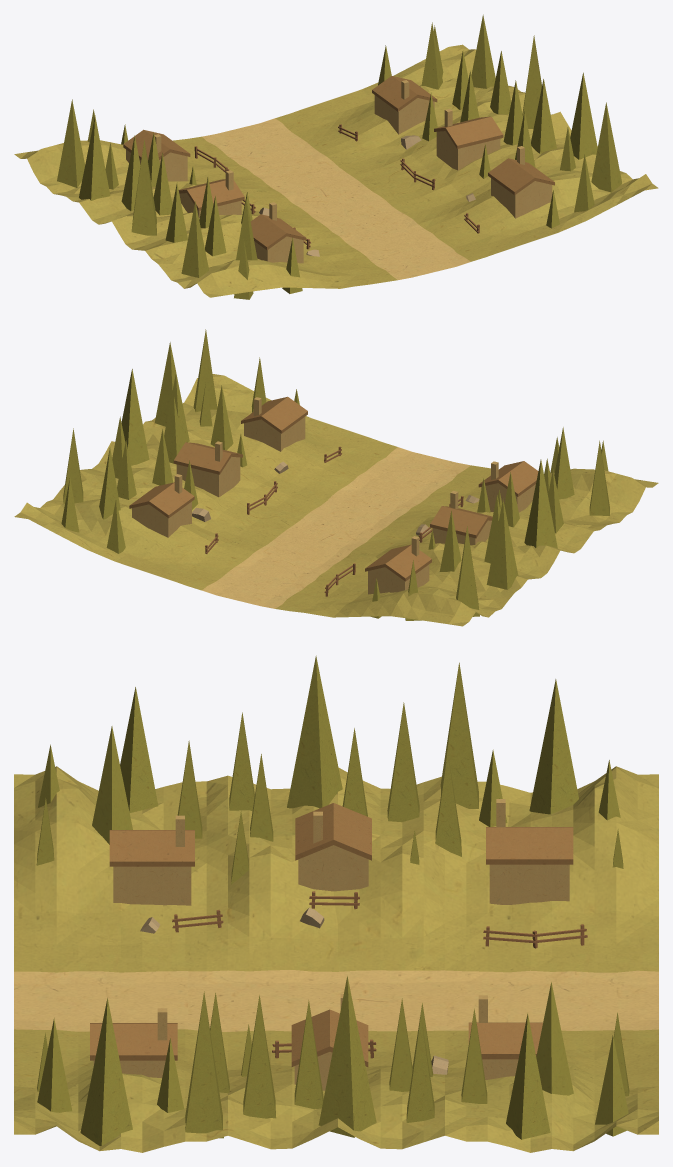
The model's file is road.fbx.
3 renders of one model, top to bottom at view 1: azimuth 30°, elevation 25°; view 2: azimuth 150°, elevation 25°; view 3: azimuth 270°, elevation 25°, orthographic. The views are drawn at different scales.
Parts seen in each view (by area): view 1: Landscape; view 2: Landscape; view 3: Landscape.
Boxes of the visible parts, left/top/right/bottom form: Landscape: left=14, top=14, right=658, bottom=299; Landscape: left=14, top=329, right=658, bottom=626; Landscape: left=14, top=655, right=658, bottom=1152.
Bounding box in the file's own units: 531 × 129 × 402.
Materials: 1 (1 with a texture image).
